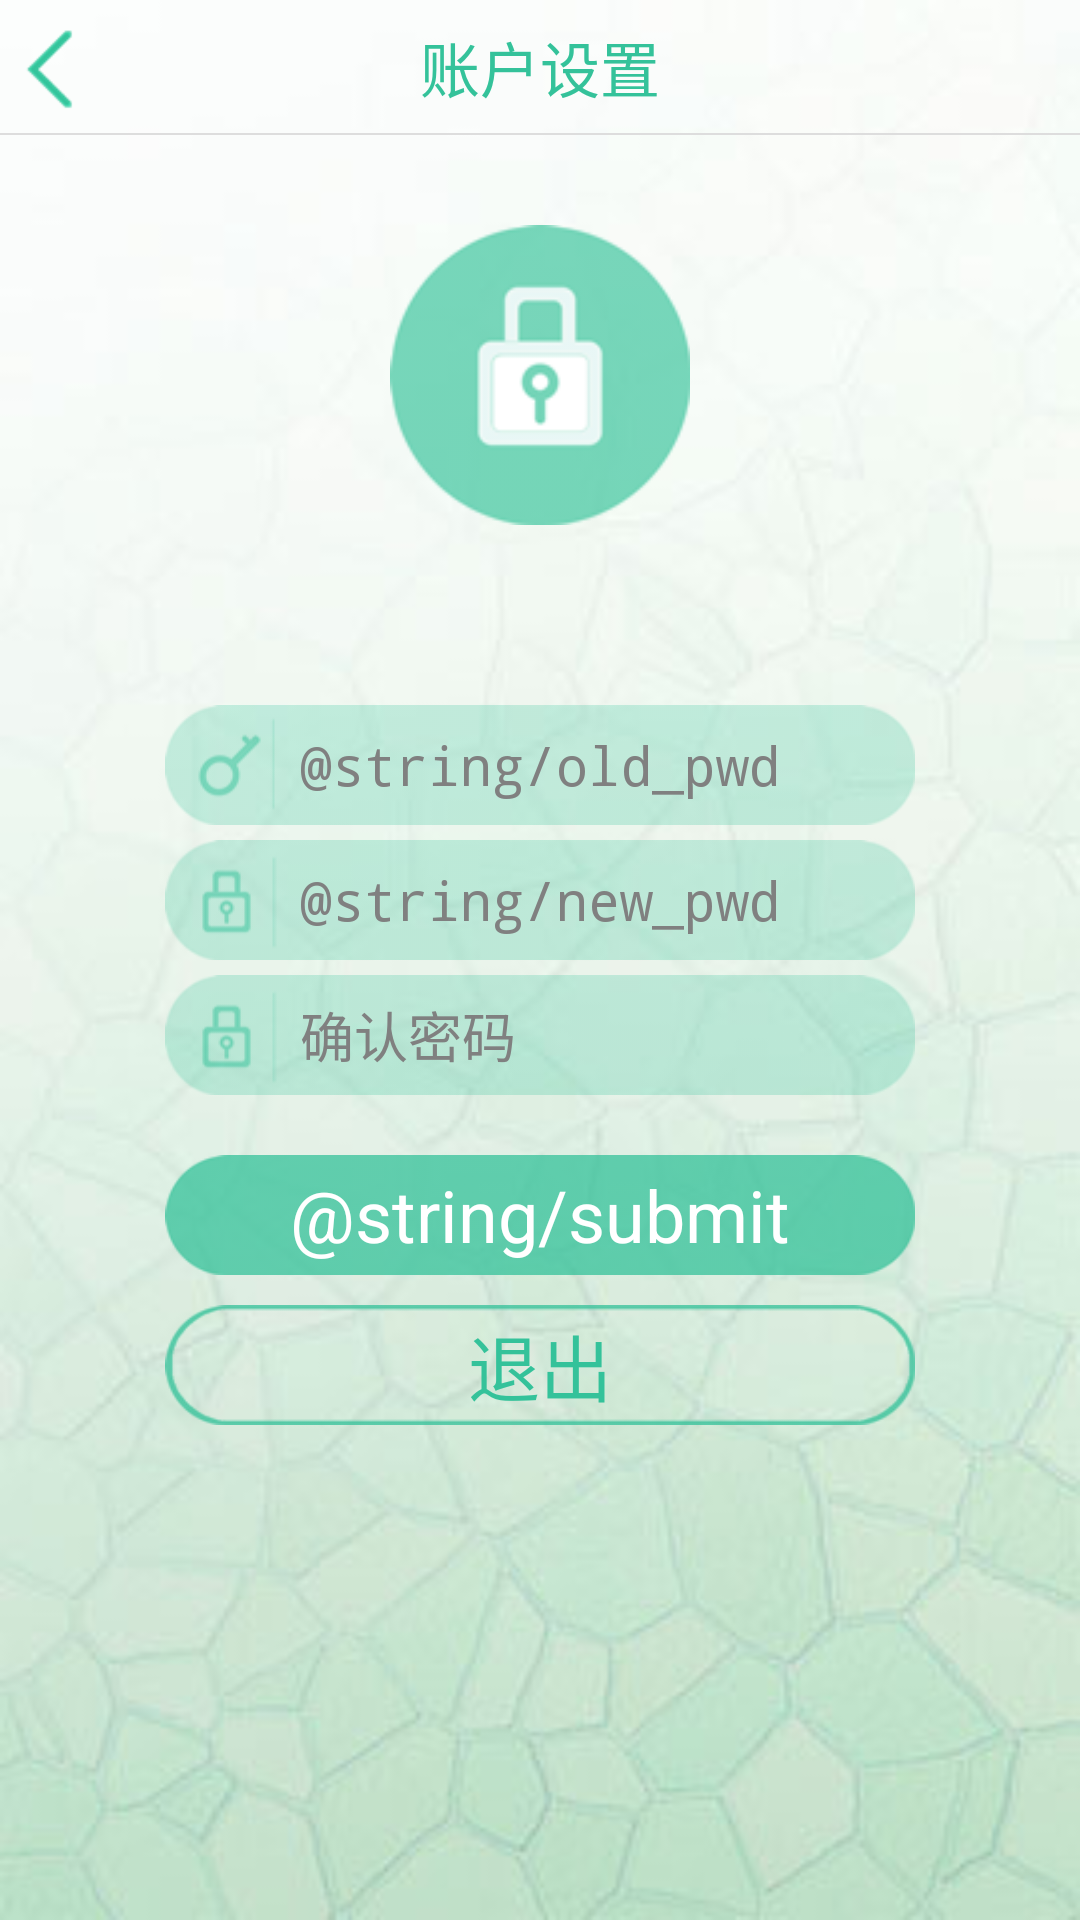

Icon click points for this 1080w x 1920h phone screenshot, format point (x, y):
key: point (232, 765)
